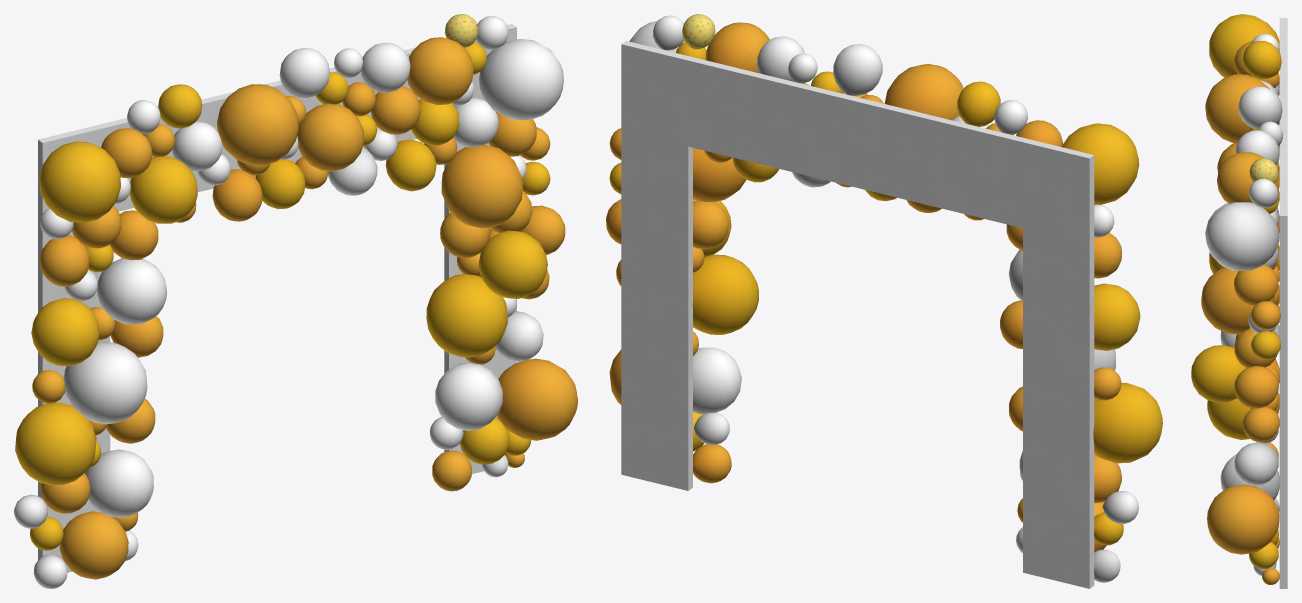
File: PartyBalloons03_GR4_2.FBX
The picture shows the model from 3 angles, left to right: view 1: azimuth 30°, elevation 25°; view 2: azimuth 150°, elevation 25°; view 3: azimuth 270°, elevation 25°; orthographic projection. The views are drawn at different scales.
Visible parts, largest first — view 1: PartyBalloons03_GR4_2; view 2: PartyBalloons03_GR4_2; view 3: PartyBalloons03_GR4_2.
Part boxes in pixels (<box>): PartyBalloons03_GR4_2: <box>14,14,577,588</box>; PartyBalloons03_GR4_2: <box>606,14,1162,588</box>; PartyBalloons03_GR4_2: <box>1191,14,1287,588</box>.
Size of what is drawn, in the model's own units: 4.3 by 3.56 by 0.7634.
